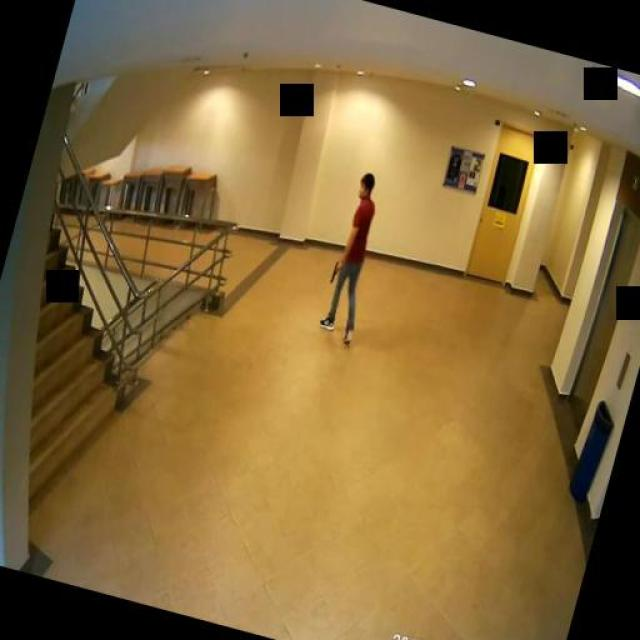gun: (329, 258, 341, 280)
